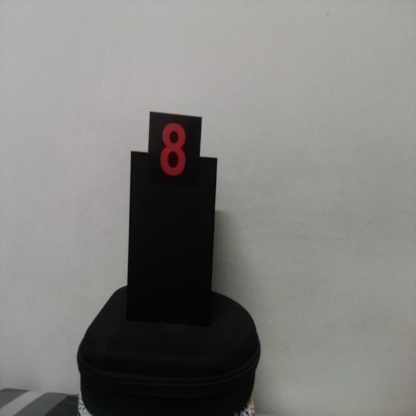id_8: (148, 112, 200, 205)
